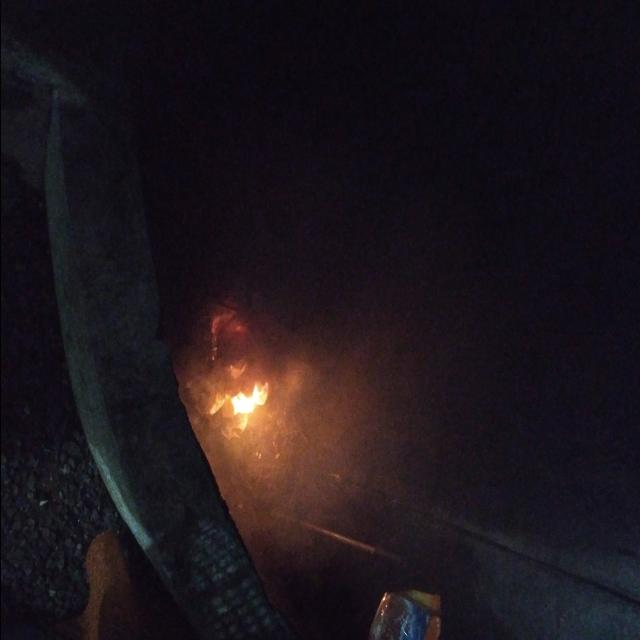firerotation: (226, 378, 272, 424)
